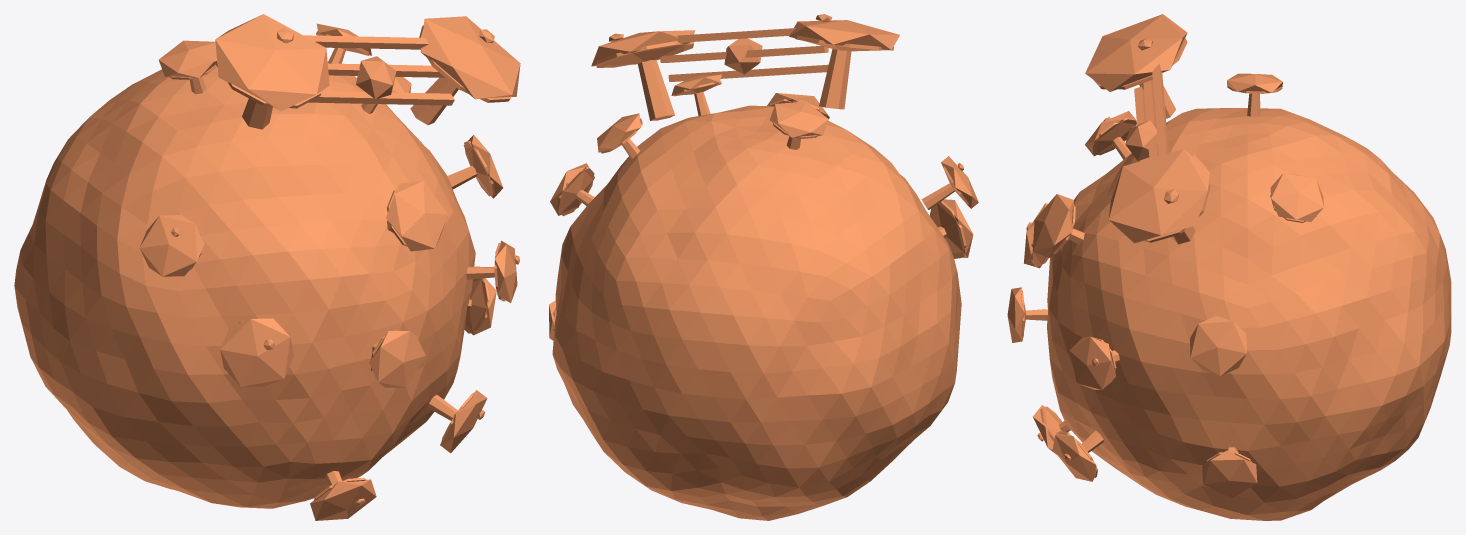
Rendered from Mushroom_08.fbx.
3 renders of one model, left to right at view 1: azimuth 30°, elevation 25°; view 2: azimuth 150°, elevation 25°; view 3: azimuth 270°, elevation 25°, orthographic. The views are drawn at different scales.
Parts seen in each view (by area): view 1: Mushroom_08; view 2: Mushroom_08; view 3: Mushroom_08.
Part boxes in pixels (left/top/right/bottom): Mushroom_08: left=14, top=14, right=520, bottom=520; Mushroom_08: left=549, top=14, right=978, bottom=520; Mushroom_08: left=1007, top=14, right=1451, bottom=520.
Bounding box in the file's own units: 6.54 × 7.33 × 6.51.
